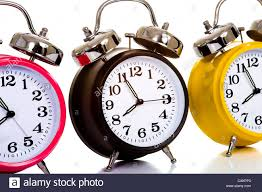alarm_clock: (70, 13, 195, 154)
